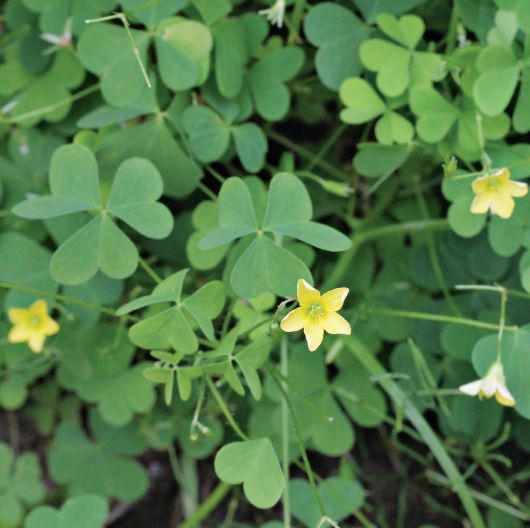clover: (11, 143, 175, 288), (198, 172, 354, 297), (74, 1, 214, 110), (115, 267, 226, 354), (358, 12, 451, 97)
yellow wood sorrel: (278, 277, 354, 352), (467, 166, 529, 221), (458, 356, 517, 409), (5, 299, 61, 353)
